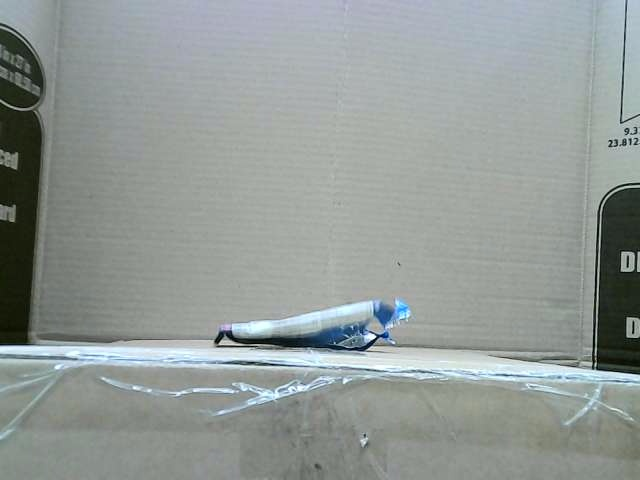CandyWrapper: (214, 299, 412, 350)
